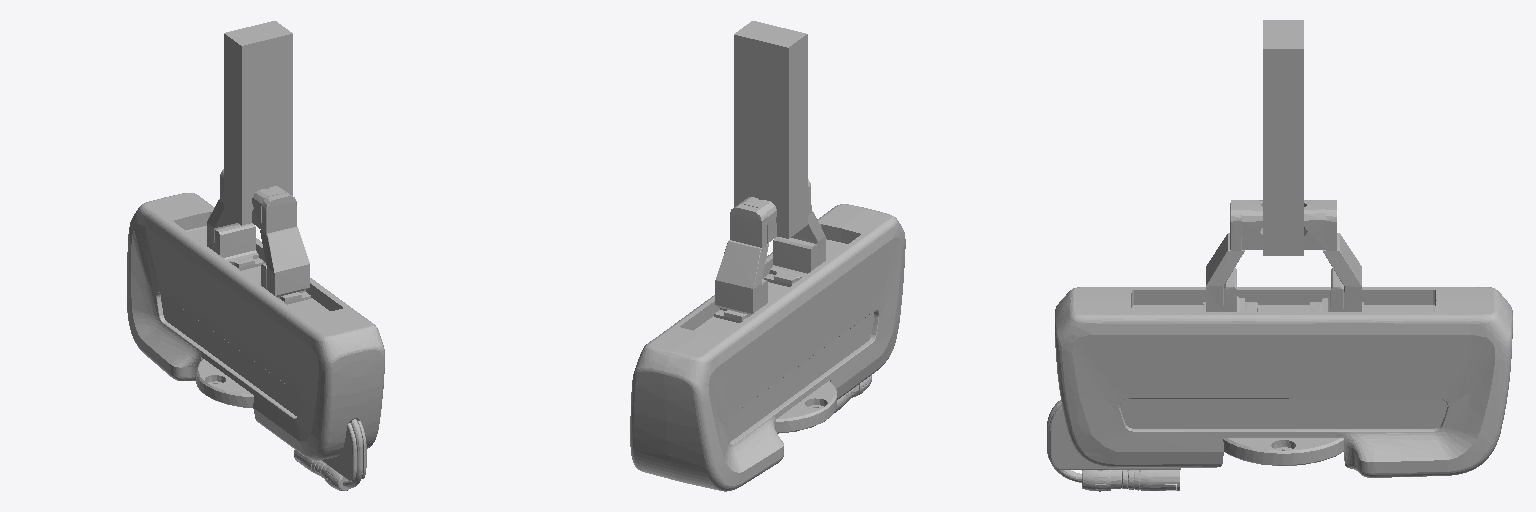
robot.urdf — parallel_gripper:
<robot
  name="parallel_gripper">

  <material name="silver">
      <color rgba="0.75 0.75 0.75 1" />
  </material>
  <link name="pineapple_hand">
  	<inertial>
      <origin rpy="0 0 0" xyz="0 0 0.04"/>
       <mass value=".81"/>
       <inertia ixx="0.1" ixy="0" ixz="0" iyy="0.1" iyz="0" izz="0.1"/>
    </inertial>
    <visual>
      <geometry>
        <mesh filename="package://meshes/visual/hand.stl"/>
      </geometry>
      <material name="silver"/>
    </visual>
    <collision>
      <geometry>
        <mesh filename="package://meshes/collision/hand.stl"/>
      </geometry>
      <material name="silver"/>
    </collision>
  </link>
  <link name="leftfinger">
       <contact>
      <friction_anchor/>
      <stiffness value="30000.0"/>
      <damping value="1000.0"/>
      <spinning_friction value="0.1"/>
      <lateral_friction value="1.0"/>
    </contact>
  	<inertial>
      <origin rpy="0 0 0" xyz="0 0.0101 0.067616"/>
       <mass value="0.1"/>
       <inertia ixx="0.1" ixy="0" ixz="0" iyy="0.1" iyz="0" izz="0.1"/>
    </inertial>
    <visual>
      <geometry>
        <mesh filename="package://meshes/visual/finger.stl"/>
      </geometry>
      <material name="silver"/>
    </visual>
    <collision>
      <geometry>
        <mesh filename="package://meshes/collision/finger.stl"/>
      </geometry>
      <material name="silver"/>
    </collision>
  </link>
  <link name="rightfinger">
        <contact>
      <friction_anchor/>
      <stiffness value="30000.0"/>
      <damping value="1000.0"/>
      <spinning_friction value="0.1"/>
      <lateral_friction value="1.0"/>
    </contact>

  	<inertial>
      <origin rpy="0 0 0" xyz="0 -0.0101 0.067616"/>
       <mass value="0.1"/>
       <inertia ixx="0.1" ixy="0" ixz="0" iyy="0.1" iyz="0" izz="0.1"/>
    </inertial>
    <visual>
      <origin rpy="0 0 3.14159265359" xyz="0 0 0"/>
      <geometry>
        <mesh filename="package://meshes/visual/finger.stl"/>
      </geometry>
      <material name="silver"/>
    </visual>
    <collision>
      <origin rpy="0 0 3.14159265359" xyz="0 0 0"/>
      <geometry>
        <mesh filename="package://meshes/collision/finger.stl"/>
      </geometry>
      <material name="silver"/>
    </collision>
  </link>
  <joint name="finger_joint1" type="prismatic">
    <parent link="pineapple_hand"/>
    <child link="leftfinger"/>
    <origin rpy="0 0 0" xyz="0 0 0.0584"/>
    <axis xyz="0 1 0"/>
    <limit effort="20" lower="0.0" upper="0.04" velocity="0.2"/>
  </joint>
  <joint name="finger_joint2" type="prismatic">
    <parent link="pineapple_hand"/>
    <child link="rightfinger"/>
    <origin rpy="0 0 0" xyz="0 0 0.0584"/>
    <axis xyz="0 -1 0"/>
    <limit effort="20" lower="0.0" upper="0.04" velocity="0.2"/>
    <mimic joint="finger_joint1"/>
  </joint>
   <link name="grasptarget">
 <inertial>
      <origin rpy="0 0 0" xyz="0 0 0"/>
       <mass value="0.0"/>
       <inertia ixx="0.1" ixy="0" ixz="0" iyy="0.1" iyz="0" izz="0.1"/>
    </inertial>
   </link>
   <joint name="grasptarget_hand" type="fixed">
    <parent link="pineapple_hand"/>
    <child link="grasptarget"/>
    <origin rpy="0 0 0" xyz="0 0 0.187322"/>
  </joint>
</robot>

--- Facts derived from the render (not from the file) ---
3 views of the same robot in one strip: view 1: azimuth 30°, elevation 25°; view 2: azimuth 150°, elevation 25°; view 3: azimuth 270°, elevation 25° (orthographic).
Robot: parallel_gripper — 4 links, 3 joints (2 prismatic, 1 fixed); root link pineapple_hand; default pose: all joints at 0.
Visible links, largest first — view 1: pineapple_hand, rightfinger, leftfinger; view 2: pineapple_hand, leftfinger, rightfinger; view 3: pineapple_hand, rightfinger, leftfinger.
Boxes of the visible links, x1,y1,x2,y2 form: pineapple_hand: (127,193,384,490); rightfinger: (233,27,310,304); leftfinger: (207,21,282,270); pineapple_hand: (630,204,905,491); leftfinger: (714,28,797,322); rightfinger: (743,21,825,286); pineapple_hand: (1047,287,1512,491); rightfinger: (1203,20,1283,311); leftfinger: (1284,20,1363,311).
Bounding box of the posed robot: 0.063 × 0.2045 × 0.2205 m (x, y, z).
3 mesh visuals loaded from 2 distinct referenced files (2 binary STL).